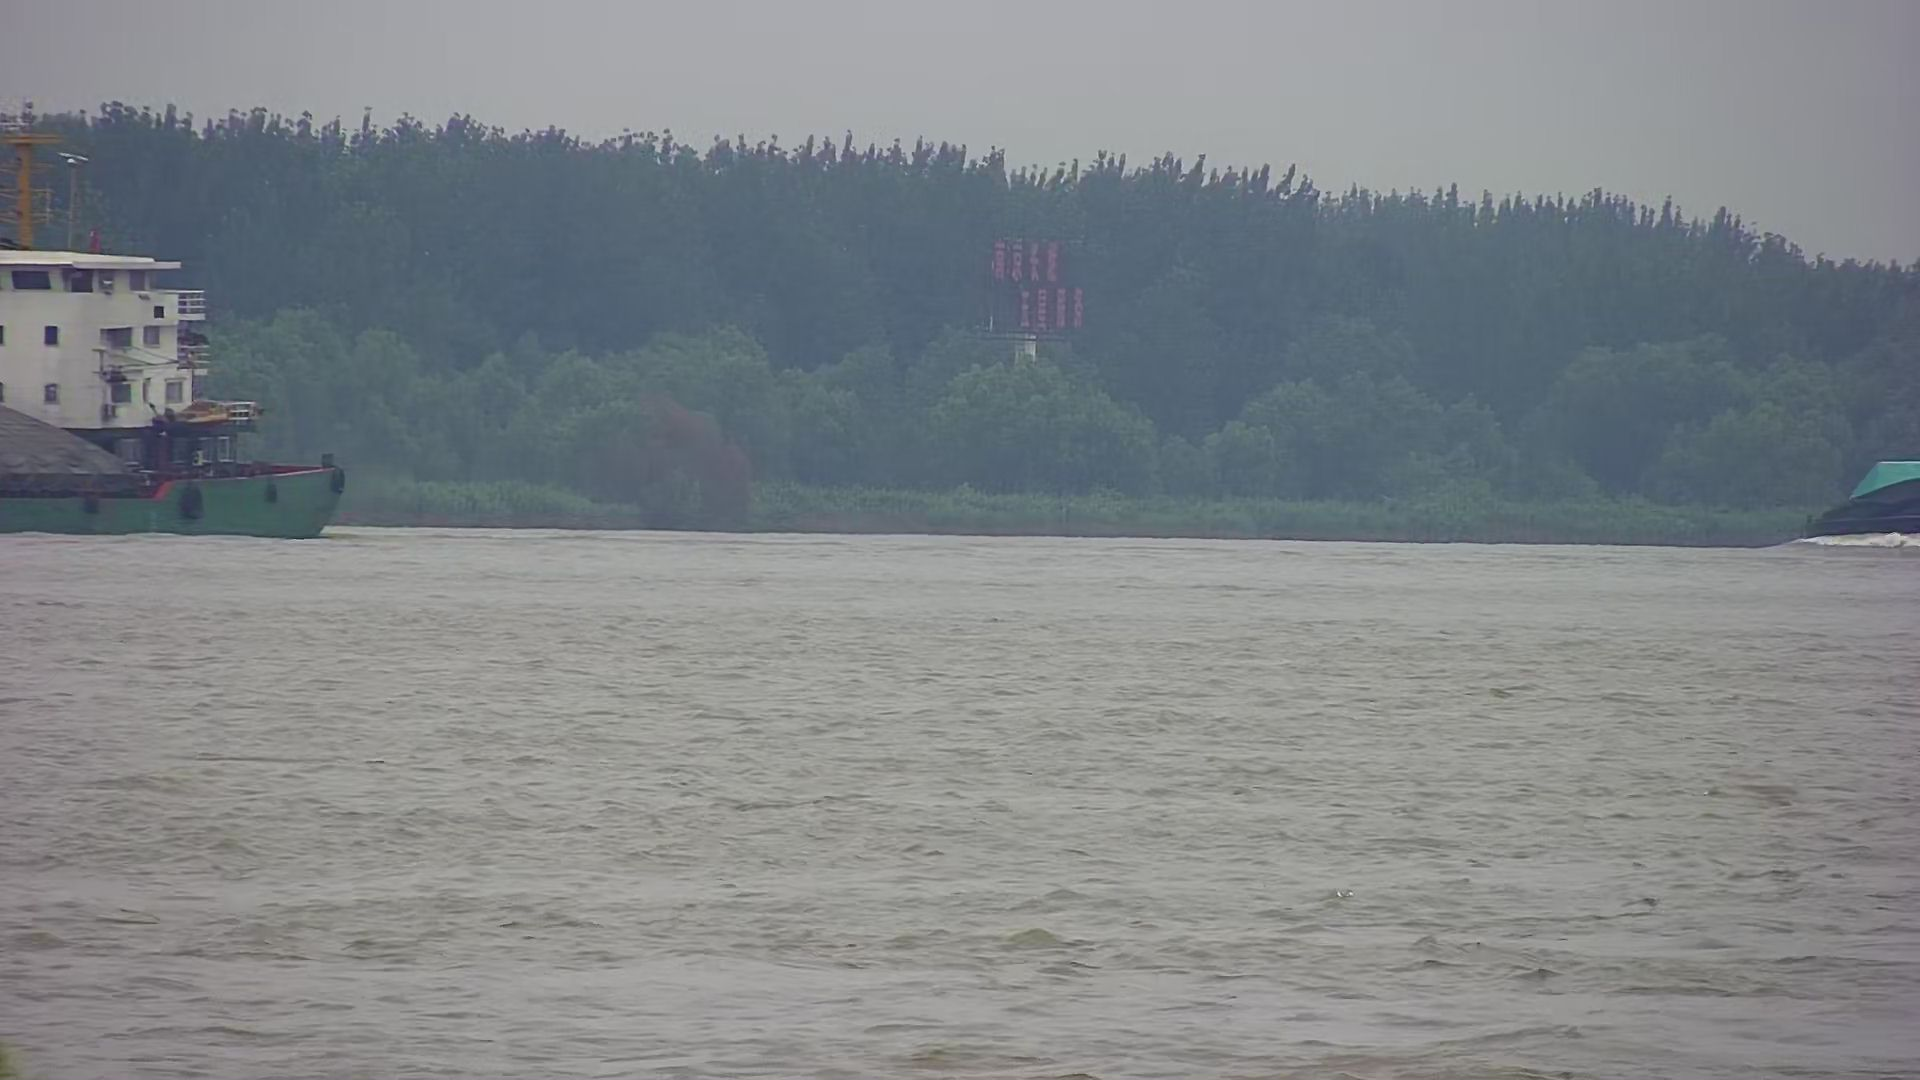ship: (1, 102, 353, 545)
